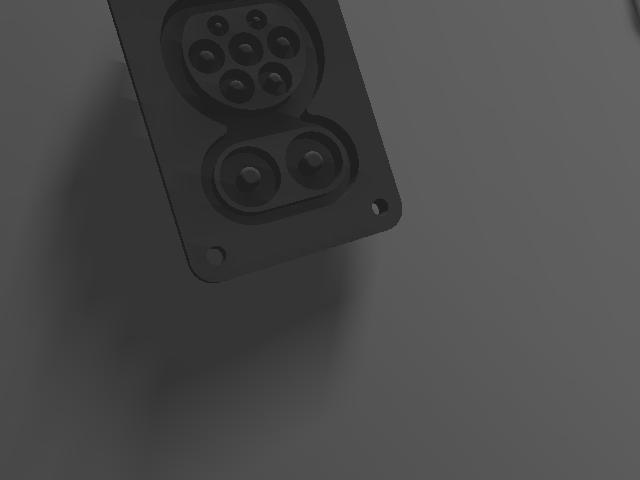EV-socket: (108, 0, 401, 282)
